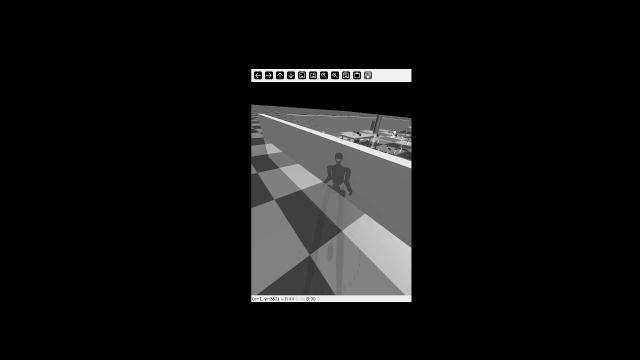cilindro: (372, 114, 385, 134), (376, 148, 381, 153), (407, 138, 411, 143), (395, 134, 398, 140), (353, 132, 357, 136), (399, 146, 403, 150), (373, 146, 378, 149), (369, 143, 372, 147), (394, 148, 397, 150)
cuadrado: (356, 130, 360, 134), (374, 134, 380, 136), (386, 152, 390, 154), (388, 131, 390, 133)
esfera: (392, 130, 397, 136), (358, 133, 362, 136), (376, 139, 380, 142), (400, 136, 403, 139), (388, 148, 391, 151), (392, 152, 395, 154), (387, 145, 391, 146)
